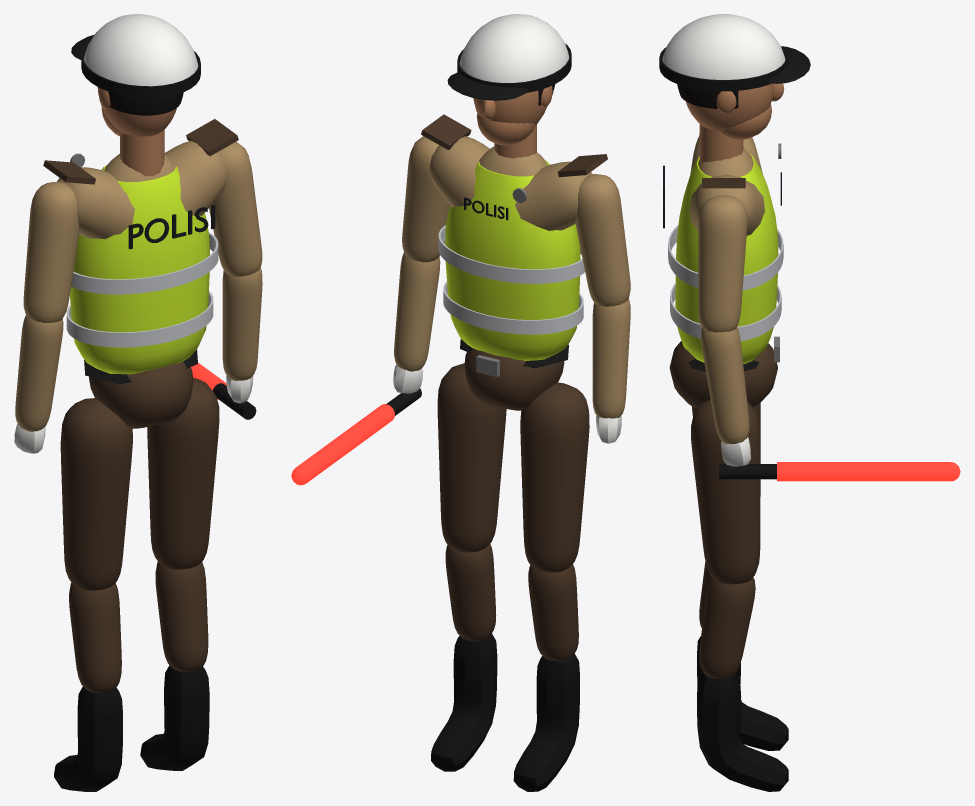
Rendered from Police.fbx.
3 renders of one model, left to right at view 1: azimuth 30°, elevation 25°; view 2: azimuth 150°, elevation 25°; view 3: azimuth 270°, elevation 25°, orthographic. The views are drawn at different scales.
Visible parts, largest first — view 1: Torso, Thigh_L, Thigh_R, Shin_R, Shin_L, UpperArm_L, ForeArm_R, ForeArm_L, UpperArm_R; view 2: Torso, Thigh_L, Thigh_R, Shin_R, Shin_L, ForeArm_R, UpperArm_L, ForeArm_L, UpperArm_R; view 3: Torso, Shin_R, ForeArm_R, Thigh_R, UpperArm_R, Shin_L.
Part boxes in pixels (x1,y1,x2,y2): Torso: (43, 14, 238, 428); Thigh_L: (60, 398, 132, 590); Thigh_R: (147, 377, 219, 569); Shin_R: (140, 562, 209, 770); Shin_L: (54, 582, 122, 791); UpperArm_L: (23, 181, 79, 322); ForeArm_R: (191, 267, 262, 419); ForeArm_L: (14, 315, 63, 453); UpperArm_R: (209, 141, 262, 276); Torso: (421, 14, 607, 410); Thigh_L: (520, 382, 589, 572); Thigh_R: (437, 363, 506, 552); Shin_R: (431, 544, 497, 771); Shin_L: (513, 564, 579, 791); ForeArm_R: (291, 252, 440, 485); UpperArm_L: (575, 174, 630, 306); ForeArm_L: (592, 298, 630, 443); UpperArm_R: (402, 136, 450, 262); Torso: (659, 14, 810, 408); Shin_R: (697, 577, 788, 791); ForeArm_R: (700, 327, 960, 481); Thigh_R: (691, 399, 760, 584); UpperArm_R: (698, 195, 747, 332); Shin_L: (697, 561, 788, 750).
Size of the model in its own units: 0.5494 by 1.71 by 0.6234.
